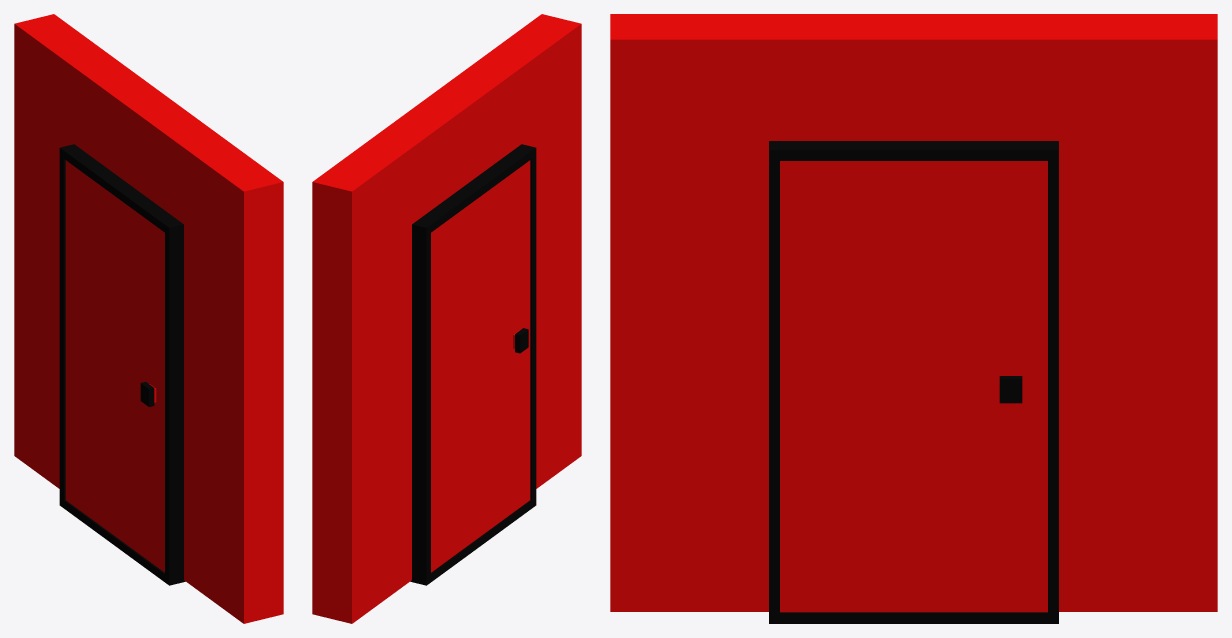
Rendered from basicDoor.obj.
3 renders of one model, left to right at view 1: azimuth 30°, elevation 25°; view 2: azimuth 150°, elevation 25°; view 3: azimuth 270°, elevation 25°, orthographic. The views are drawn at different scales.
Visible parts, largest first — view 1: Cube.002; view 2: Cube.002; view 3: Cube.002.
Boxes of the visible parts, x1,y1,x2,y2 form: Cube.002: (14,14,283,623); Cube.002: (312,14,581,623); Cube.002: (610,14,1217,623).
Size of the model in its own units: 0.2054 by 1.04 by 1.
